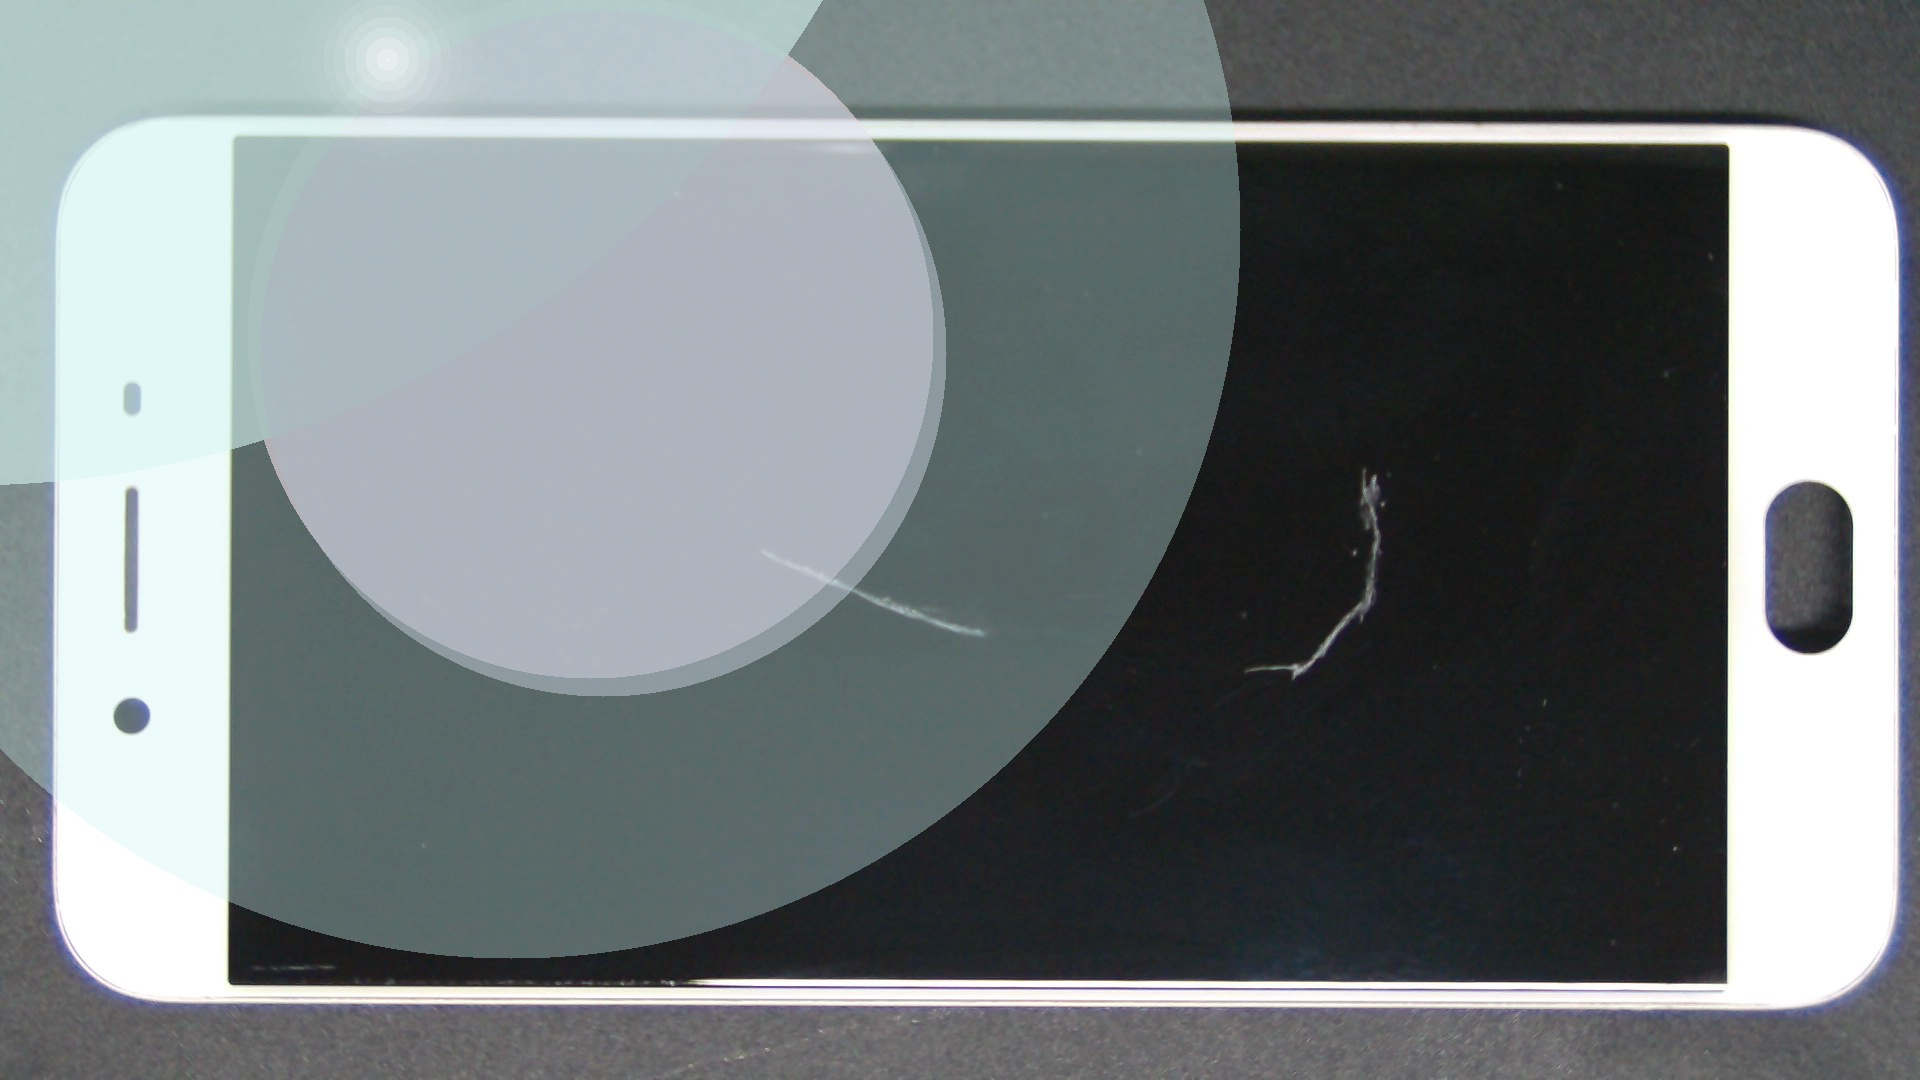oil: (683, 232, 1920, 699), (381, 273, 1142, 823)
